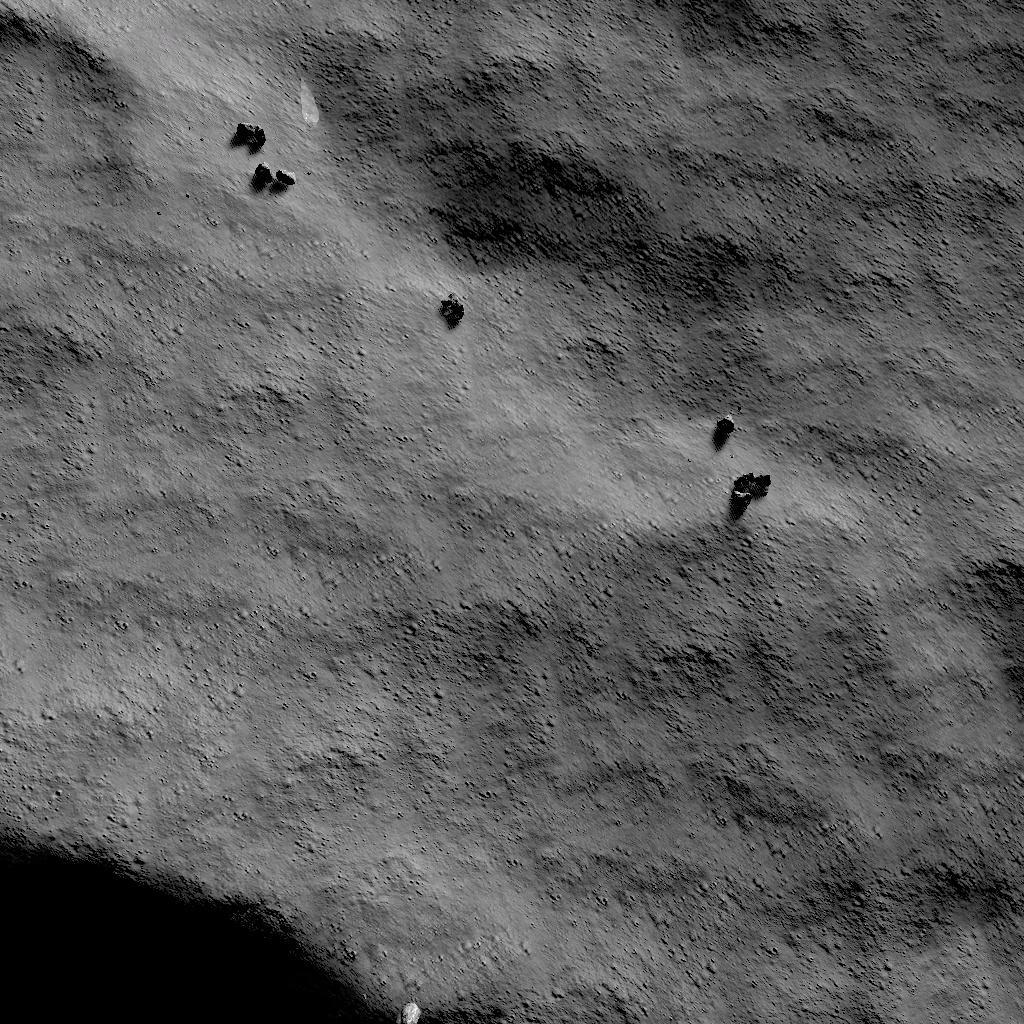Crater: (0, 780, 483, 1024), (0, 0, 167, 371)
Plan surface: (0, 400, 658, 744), (473, 0, 1024, 374), (695, 536, 1024, 1024)
